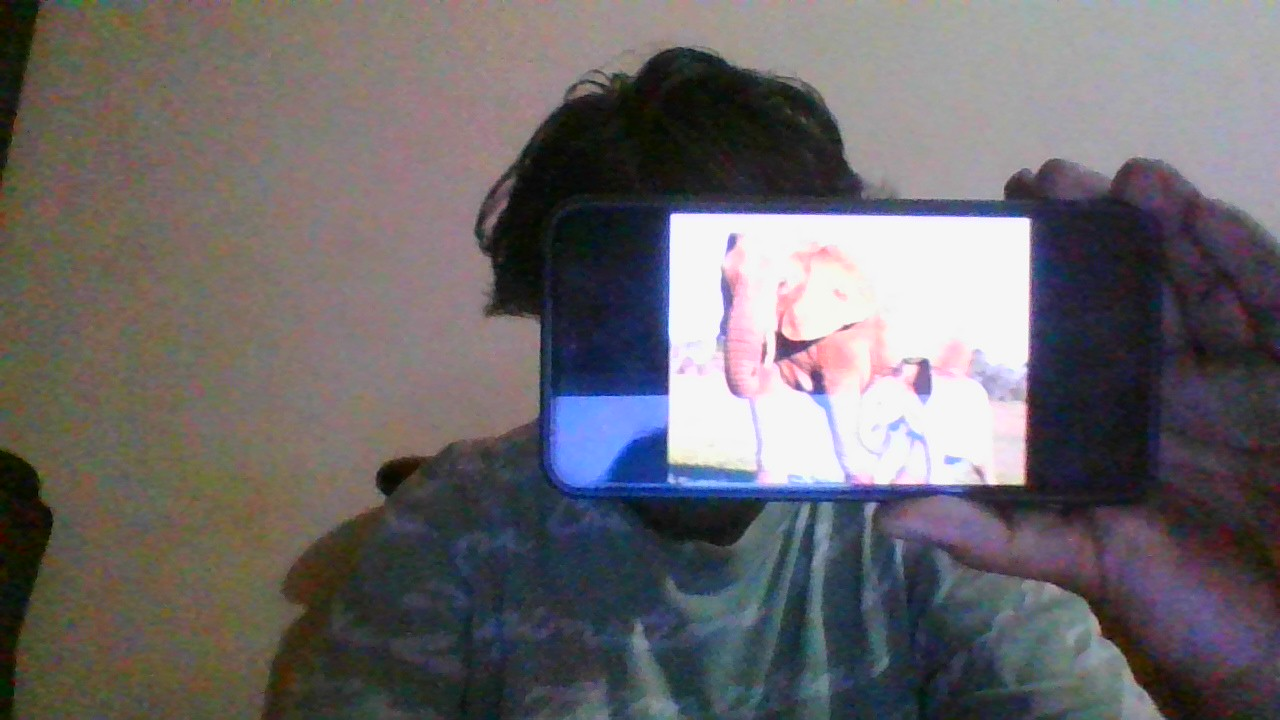elephant: (722, 234, 889, 483), (858, 359, 993, 484)
